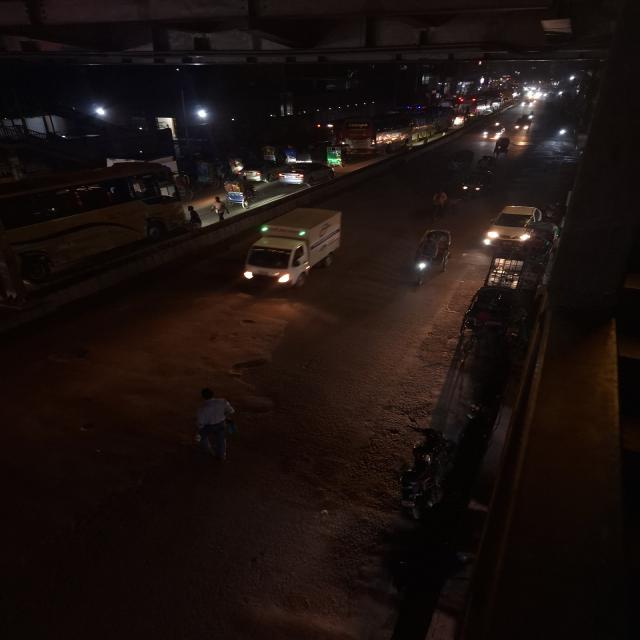bus: (1, 163, 197, 251), (340, 116, 406, 156)
car: (481, 202, 548, 248), (276, 161, 337, 187), (481, 122, 506, 141)
cng: (459, 170, 496, 201), (321, 143, 346, 166)
pedestrian: (179, 382, 247, 466), (427, 188, 451, 218), (208, 198, 231, 222)
rickshaw: (410, 227, 454, 287), (484, 247, 540, 290), (220, 178, 256, 206), (446, 149, 476, 175), (491, 136, 514, 157), (475, 153, 497, 174)
truck: (238, 205, 350, 291)
